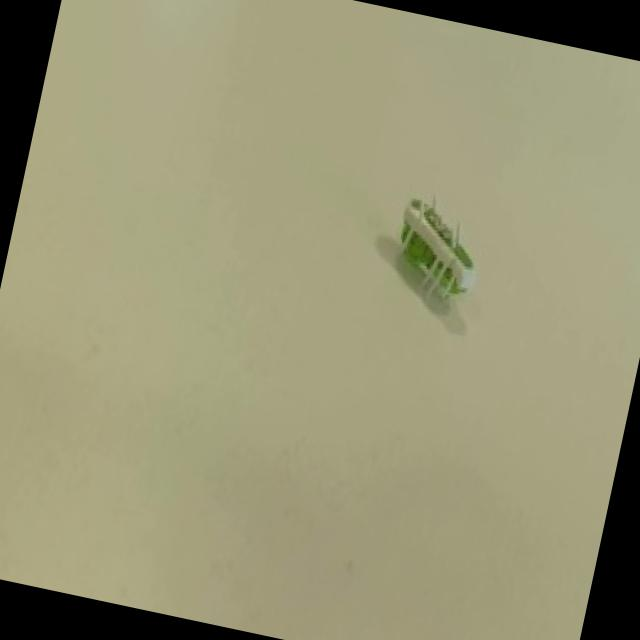4_NanoBug_Blanco: (328, 136, 539, 350)
